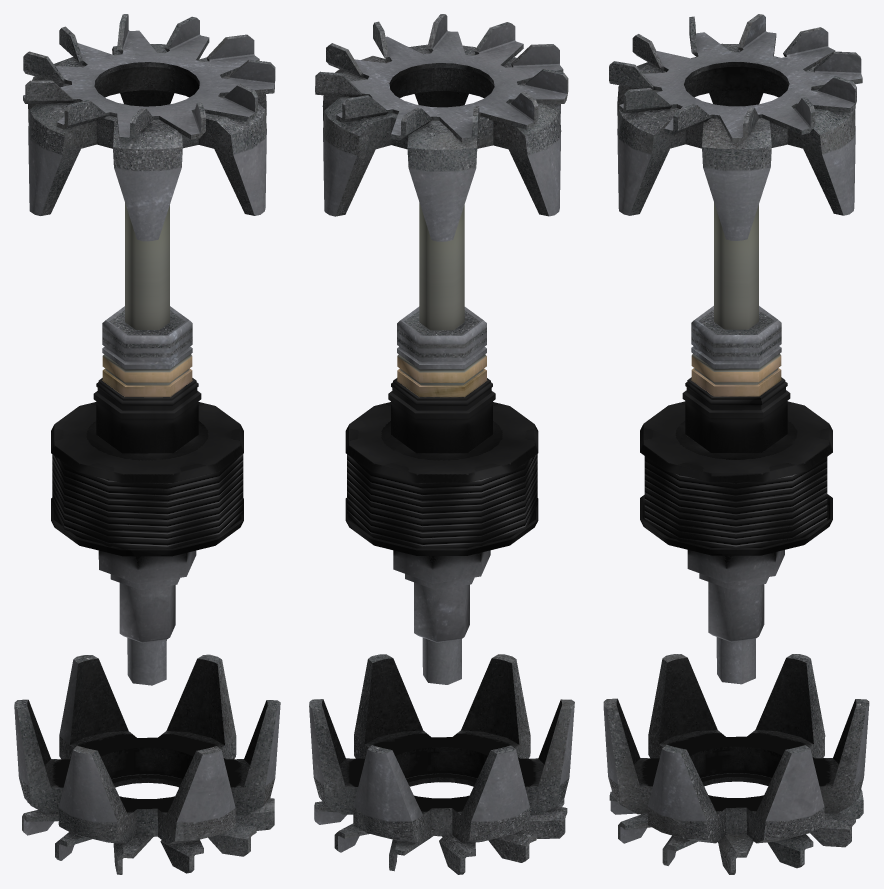
The model's file is Rotor_Low_Poly_Open.DAE.
3 renders of one model, left to right at view 1: azimuth 30°, elevation 25°; view 2: azimuth 150°, elevation 25°; view 3: azimuth 270°, elevation 25°, orthographic.
Visible parts, largest first — view 1: Rotor_Low_Poly; view 2: Rotor_Low_Poly; view 3: Rotor_Low_Poly.
Part boxes in pixels (x1,y1,x2,y2): Rotor_Low_Poly: (14, 14, 280, 874); Rotor_Low_Poly: (309, 14, 574, 874); Rotor_Low_Poly: (603, 14, 869, 874).
Size of the model in its own units: 119 by 119 by 374.
1 material, 1 textured.
